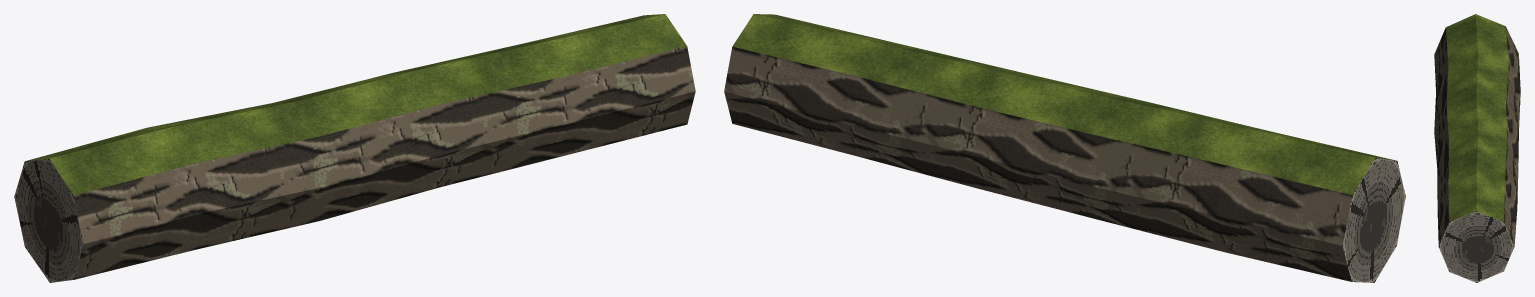
Rendered from LOG_Mossy_01.fbx.
The picture shows the model from 3 angles, left to right: view 1: azimuth 30°, elevation 25°; view 2: azimuth 150°, elevation 25°; view 3: azimuth 270°, elevation 25°; orthographic projection. The views are drawn at different scales.
Parts seen in each view (by area): view 1: LOG_Mossy_01; view 2: LOG_Mossy_01; view 3: LOG_Mossy_01.
Boxes of the visible parts, bbox=[...] form: LOG_Mossy_01: bbox=[14, 14, 695, 282]; LOG_Mossy_01: bbox=[724, 14, 1405, 282]; LOG_Mossy_01: bbox=[1434, 14, 1520, 282].
Bounding box in the file's own units: 3.01 × 0.5787 × 0.5685.
Materials: 3 (3 with a texture image).
